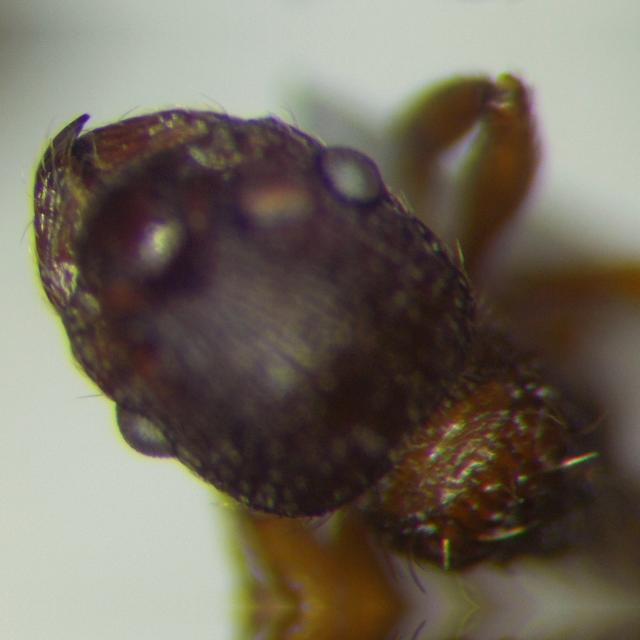Myrmica: (1, 54, 633, 606)
